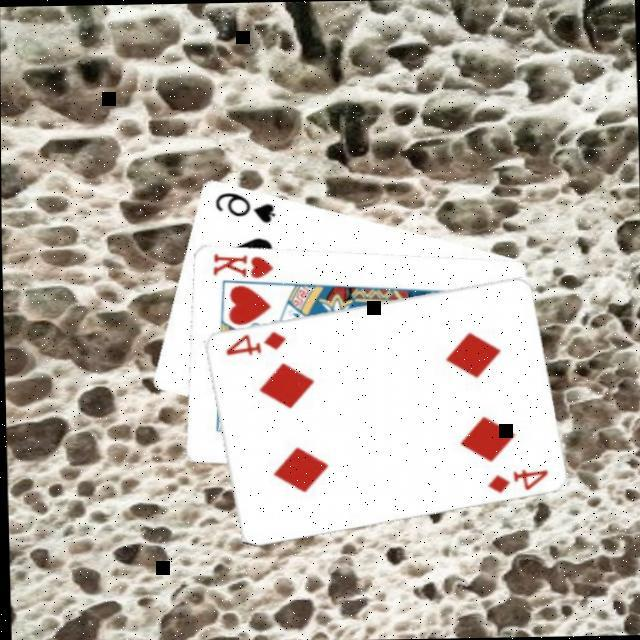4D: (218, 328, 286, 358), (480, 466, 548, 496)
6S: (208, 188, 276, 228)
KH: (206, 249, 274, 282)
